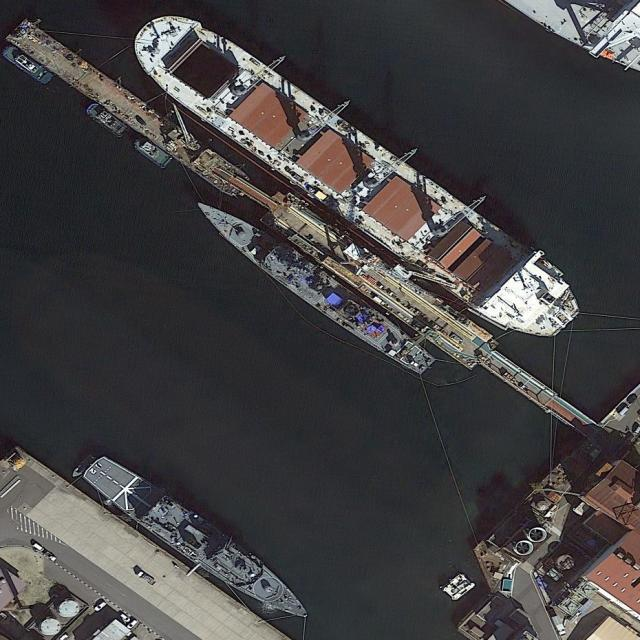Cargo: (127, 2, 594, 367)
Destroyer: (78, 447, 322, 638)
Dock: (3, 8, 605, 443)
Other Ship: (1, 44, 55, 88), (84, 102, 128, 139), (131, 136, 173, 171)
Other Warship: (188, 188, 441, 386)
